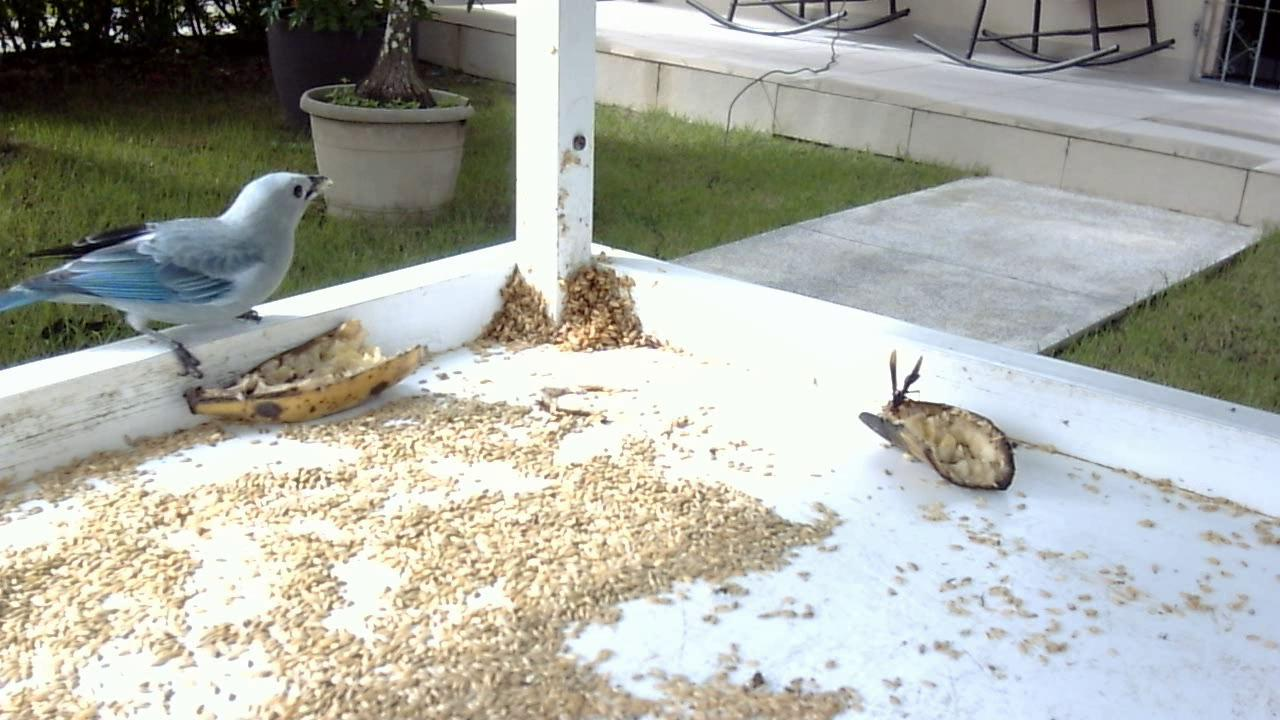sanhaco_da_amazonia: (3, 165, 335, 401)
